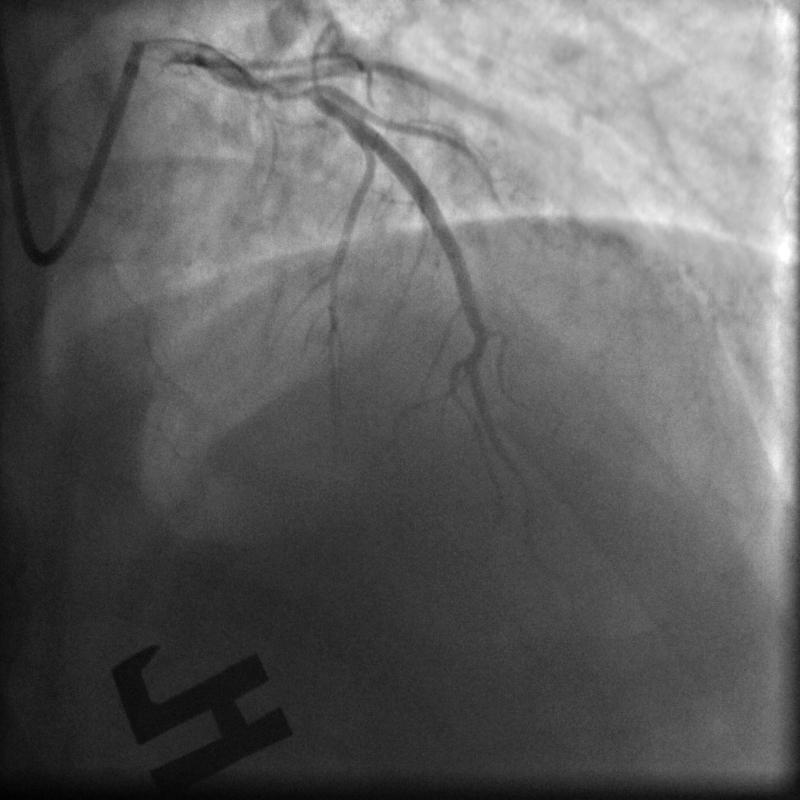Stenosis: (255, 68, 320, 103)
